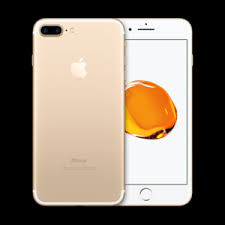iphone7: (29, 16, 192, 208), (31, 18, 127, 207), (124, 17, 193, 205)
